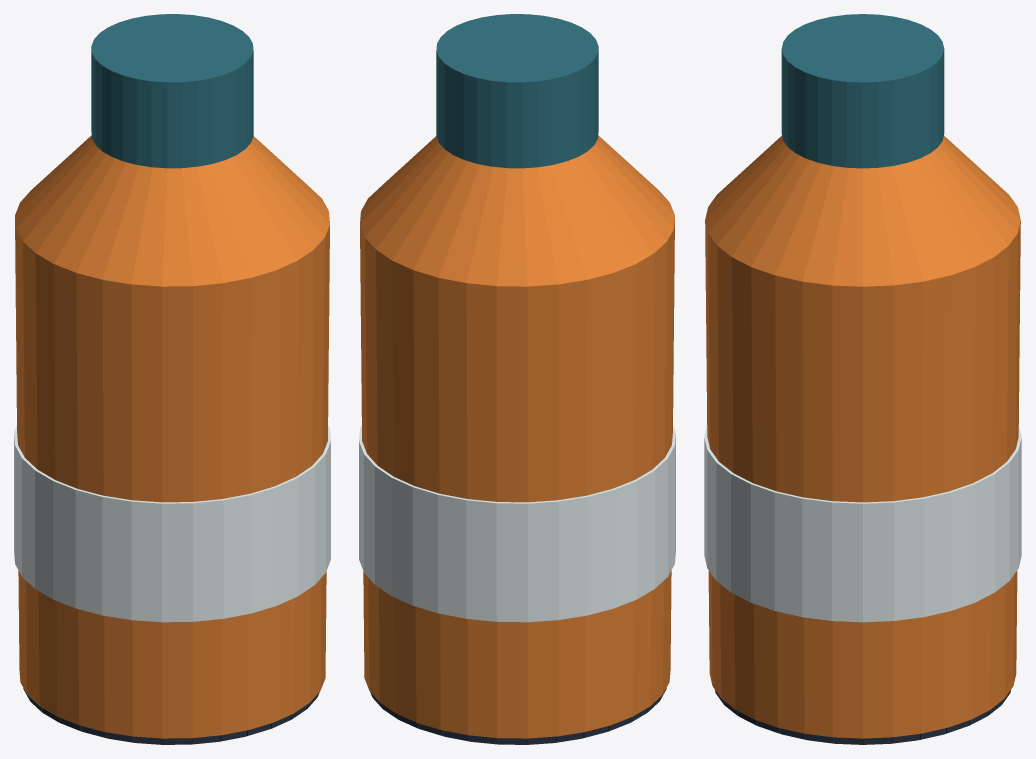
File: bottle.glb
3 views of the same model, side by side, from view 1: azimuth 30°, elevation 25°; view 2: azimuth 150°, elevation 25°; view 3: azimuth 270°, elevation 25° (orthographic).
Visible parts, largest first — view 1: bottle body, grip band, shoulder, bottle cap; view 2: bottle body, grip band, shoulder, bottle cap; view 3: bottle body, grip band, shoulder, bottle cap.
Boxes of the visible parts, x1,y1,x2,y2 form: bottle body: [15, 219, 329, 738]; grip band: [14, 425, 330, 622]; shoulder: [15, 135, 329, 286]; bottle cap: [91, 14, 253, 168]; bottle body: [360, 219, 674, 738]; grip band: [359, 425, 675, 622]; shoulder: [360, 135, 674, 286]; bottle cap: [436, 14, 598, 168]; bottle body: [705, 220, 1020, 738]; grip band: [704, 425, 1021, 622]; shoulder: [705, 136, 1020, 286]; bottle cap: [781, 14, 944, 168].
Size of the model in its own units: 0.704 by 1.55 by 0.704.
